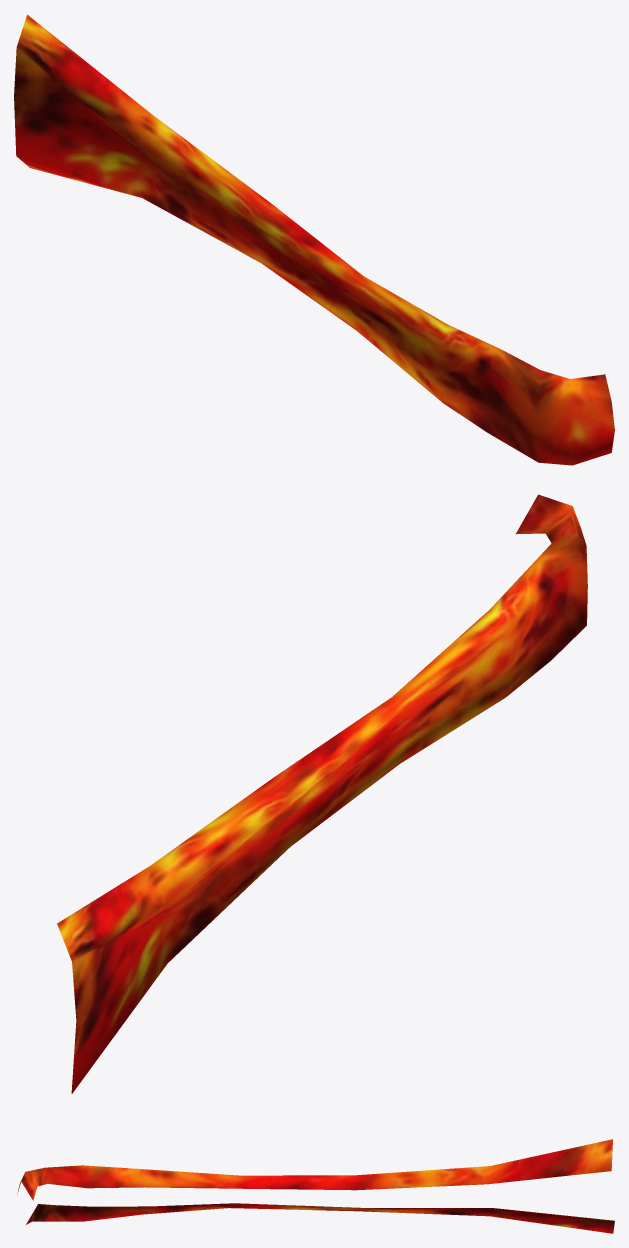
3 views of the same model, one above another, from view 1: azimuth 30°, elevation 25°; view 2: azimuth 150°, elevation 25°; view 3: azimuth 270°, elevation 25° (orthographic). The views are drawn at different scales.
Visible parts, largest first — view 1: model_Object16; view 2: model_Object16; view 3: model_Object16.
Part boxes in pixels (bbox=[...]): model_Object16: bbox=[14, 14, 614, 465]; model_Object16: bbox=[57, 494, 587, 1093]; model_Object16: bbox=[17, 1139, 614, 1233].
Bounding box in the file's own units: 0.5654 × 0.7296 × 4.24.
Materials: 1 (1 with a texture image).
